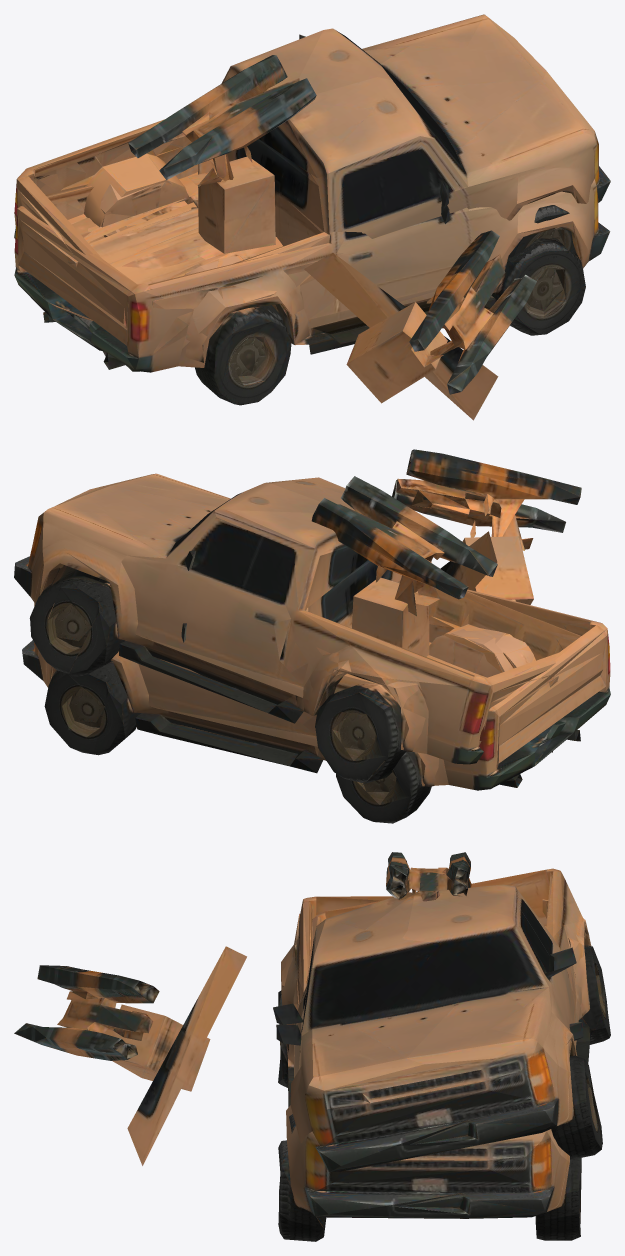
File: gun_truck.glb
3 renders of one model, top to bottom at view 1: azimuth 30°, elevation 25°; view 2: azimuth 150°, elevation 25°; view 3: azimuth 270°, elevation 25°, orthographic. The views are drawn at different scales.
Visible parts, largest first — view 1: WRECK_hull_hull, hull_hull, WRECK_turret_metal, turret_metal, WRECK_hull_glass, hull_rubber, WRECK_hull_metal, hull_glass, hull_metal; view 2: WRECK_hull_hull, hull_hull, turret_metal, WRECK_turret_metal, WRECK_hull_glass, WRECK_hull_rubber, hull_rubber, WRECK_hull_metal, hull_glass, hull_metal; view 3: WRECK_hull_hull, hull_hull, WRECK_turret_metal, WRECK_hull_glass, WRECK_hull_metal, hull_metal, turret_metal, WRECK_hull_rubber, hull_rubber, hull_glass.
Part boxes in pixels (x1,y1,x2,y2): WRECK_hull_hull: (14,14,601,371); hull_hull: (14,139,600,403); WRECK_turret_metal: (304,230,536,420); turret_metal: (128,55,324,253); WRECK_hull_glass: (226,29,467,227); hull_rubber: (220,267,585,405); WRECK_hull_metal: (100,166,610,232); hull_glass: (227,139,468,237); hull_metal: (124,219,610,252); WRECK_hull_hull: (28,473,580,784); hull_hull: (34,560,610,822); turret_metal: (311,476,497,656); WRECK_turret_metal: (392,449,581,604); WRECK_hull_glass: (166,496,367,609); WRECK_hull_rubber: (30,586,387,782); hull_rubber: (44,674,410,823); WRECK_hull_metal: (14,556,504,677); hull_glass: (181,561,377,658); hull_metal: (22,640,516,680); WRECK_hull_hull: (289,868,607,1171); hull_hull: (278,896,581,1227); WRECK_turret_metal: (14,946,246,1165); WRECK_hull_glass: (273,887,576,1033); WRECK_hull_metal: (315,1098,558,1171); hull_metal: (304,1184,554,1218); turret_metal: (386,852,471,901); WRECK_hull_rubber: (555,975,610,1159); hull_rubber: (278,1042,581,1241); hull_glass: (276,994,583,1045).
Bounding box in the file's own units: 5.46 × 2.79 × 5.47.
Materials: 1 (1 with a texture image).
